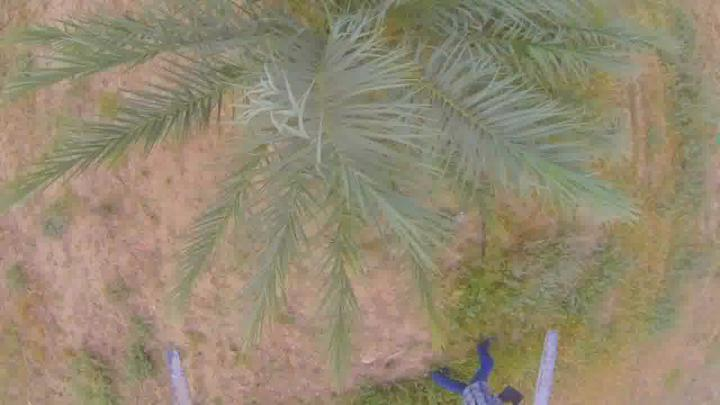Date-Palm-Crown: (184, 0, 492, 226)
